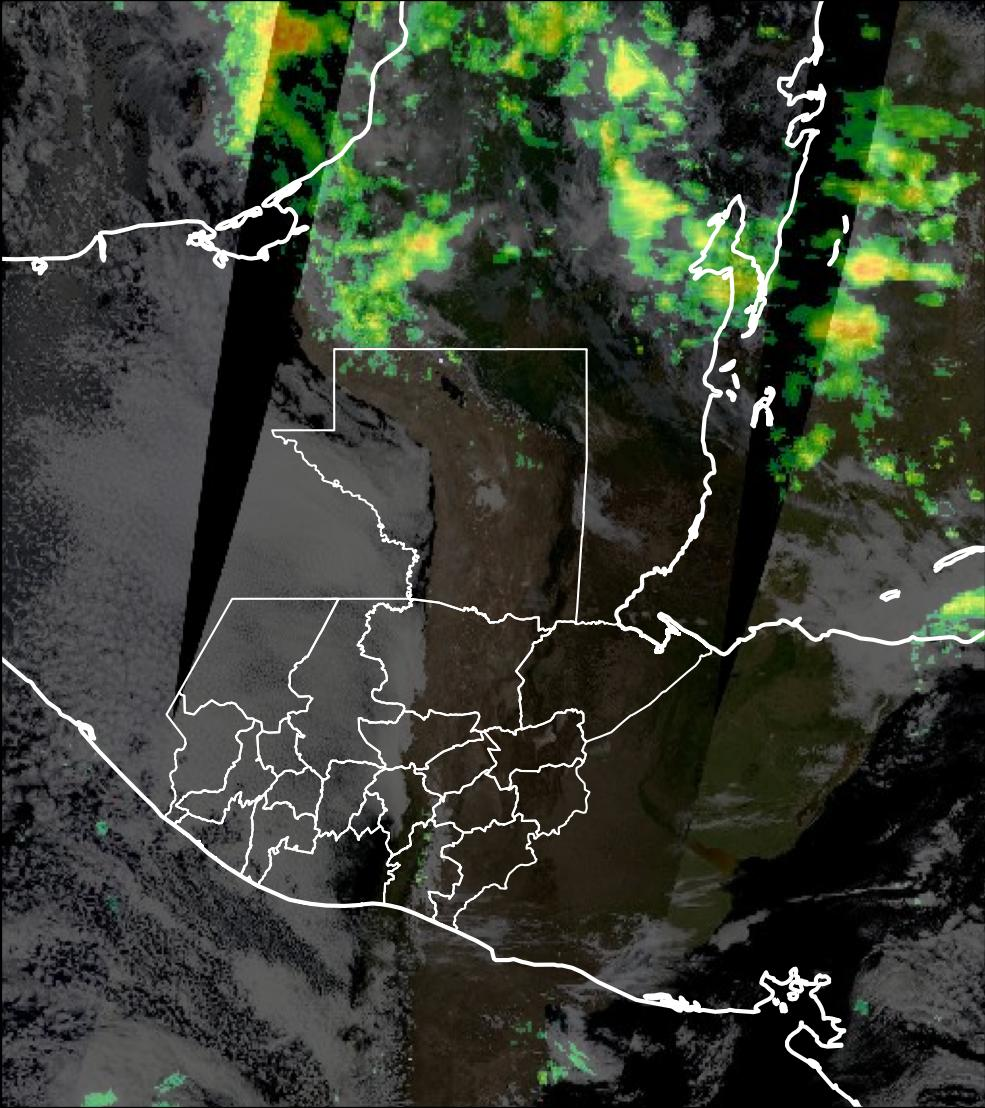precipitacion: (233, 9, 317, 136)
